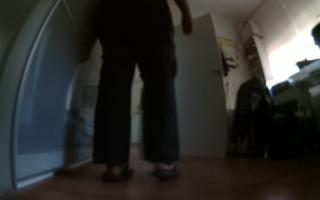person: (71, 1, 197, 187)
